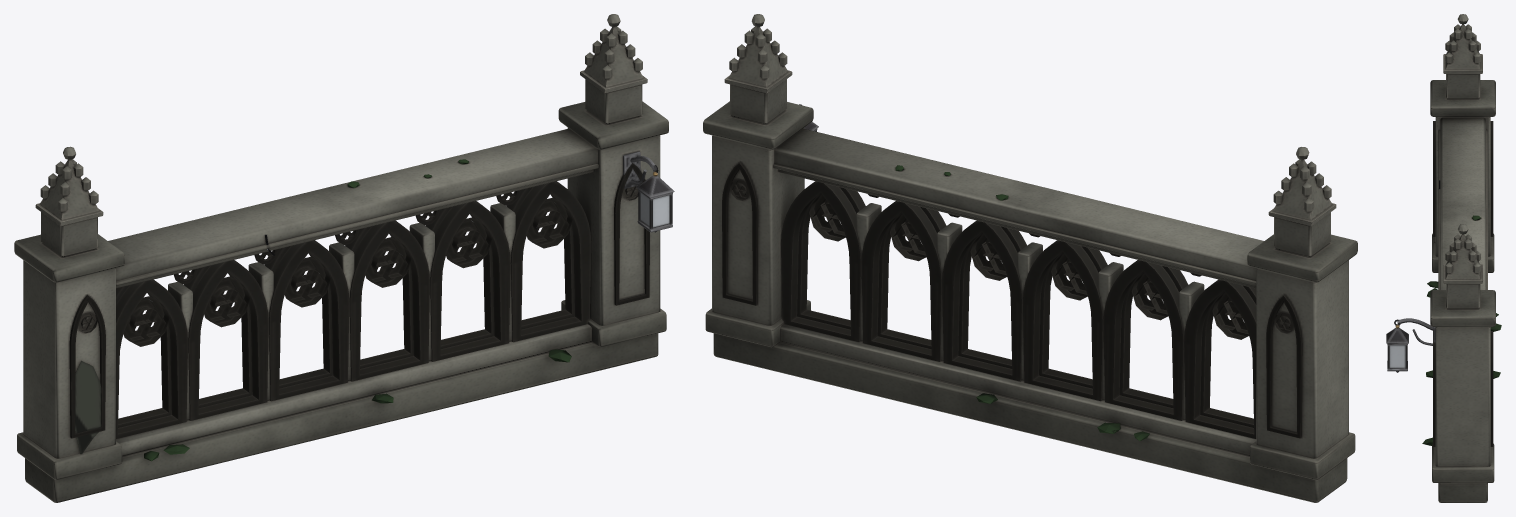
The model's file is Balustrade.fbx.
The picture shows the model from 3 angles, left to right: view 1: azimuth 30°, elevation 25°; view 2: azimuth 150°, elevation 25°; view 3: azimuth 270°, elevation 25°; orthographic projection. The views are drawn at different scales.
Visible parts, largest first — view 1: Balustrade_Main, Balustrade_Glass; view 2: Balustrade_Main; view 3: Balustrade_Main, Balustrade_Glass.
Part boxes in pixels (<box>): Balustrade_Main: <box>14,14,674,502</box>; Balustrade_Glass: <box>640,192,669,227</box>; Balustrade_Main: <box>703,14,1357,502</box>; Balustrade_Main: <box>1386,14,1501,502</box>; Balustrade_Glass: <box>1389,345,1405,367</box>.
Bounding box in the file's own units: 815 × 429 × 168.
